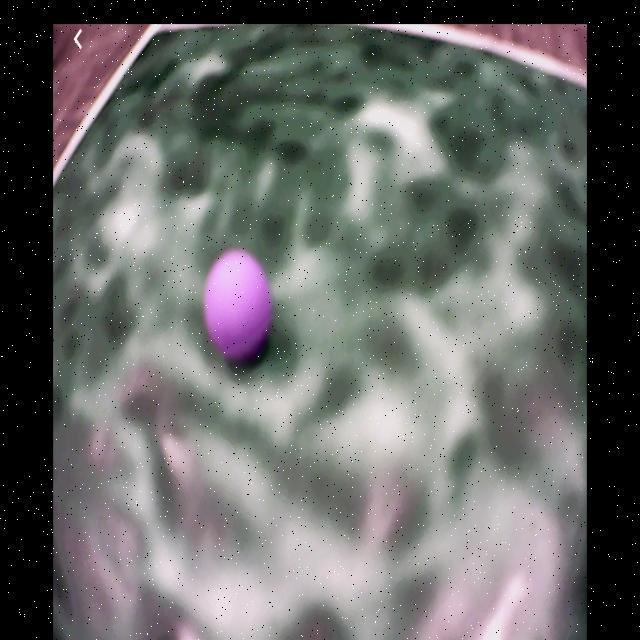ball: (202, 247, 273, 365)
